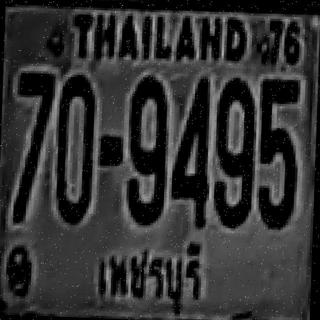N00: (55, 71, 98, 225)
N04: (170, 76, 211, 228)
N05: (256, 77, 303, 230)
N07: (9, 68, 56, 225)
N09: (210, 75, 258, 229), (125, 74, 169, 224)
P44: (86, 234, 211, 316)
